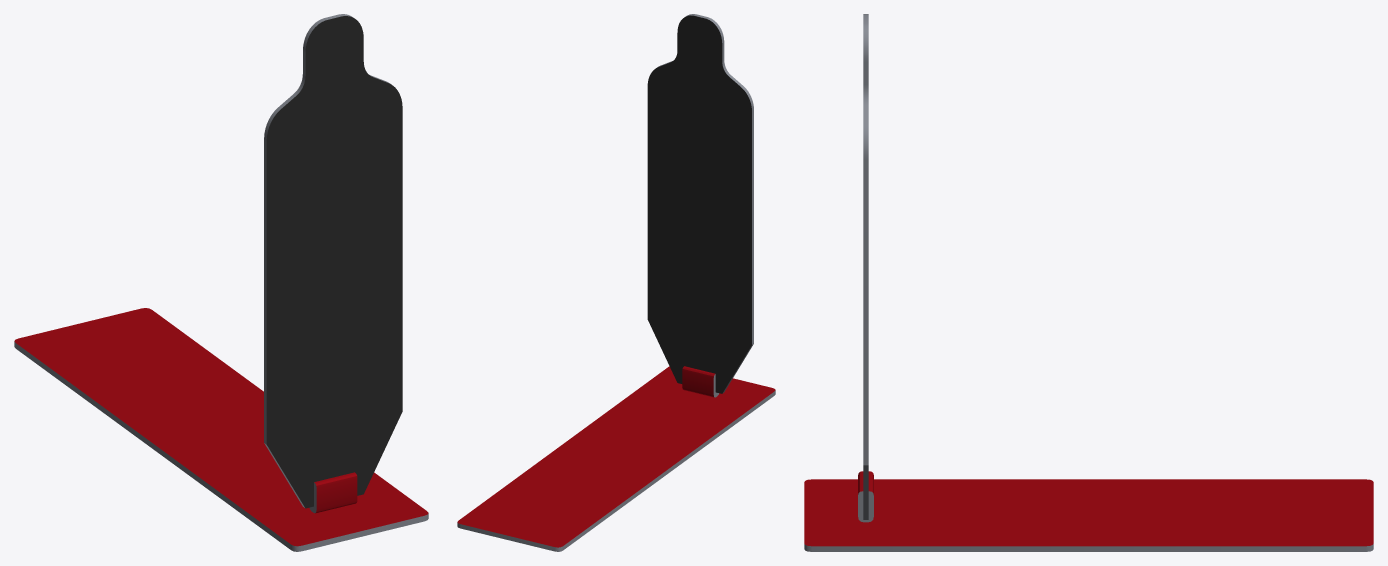
The model's file is Target.FBX.
The picture shows the model from 3 angles, left to right: view 1: azimuth 30°, elevation 25°; view 2: azimuth 150°, elevation 25°; view 3: azimuth 270°, elevation 25°; orthographic projection. The views are drawn at different scales.
Visible parts, largest first — view 1: Target_Mesh, Platform_Mesh; view 2: Target_Mesh, Platform_Mesh; view 3: Platform_Mesh, Target_Mesh.
Part boxes in pixels (x1,y1,x2,y2): Target_Mesh: [264, 14, 402, 513]; Platform_Mesh: [14, 308, 428, 551]; Target_Mesh: [647, 14, 753, 397]; Platform_Mesh: [457, 366, 775, 551]; Platform_Mesh: [804, 479, 1373, 551]; Target_Mesh: [858, 14, 873, 522].
Size of the model in its own units: 19.81 by 68.56 by 70.87.
